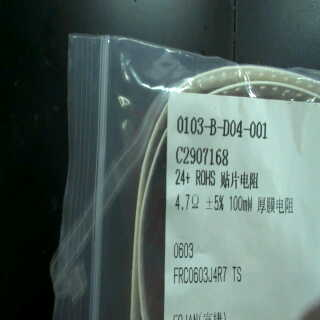4.7R: (170, 189, 204, 216)
